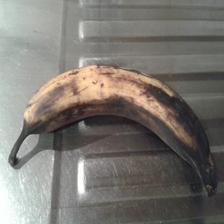Banana Rotten: (5, 76, 223, 190)
